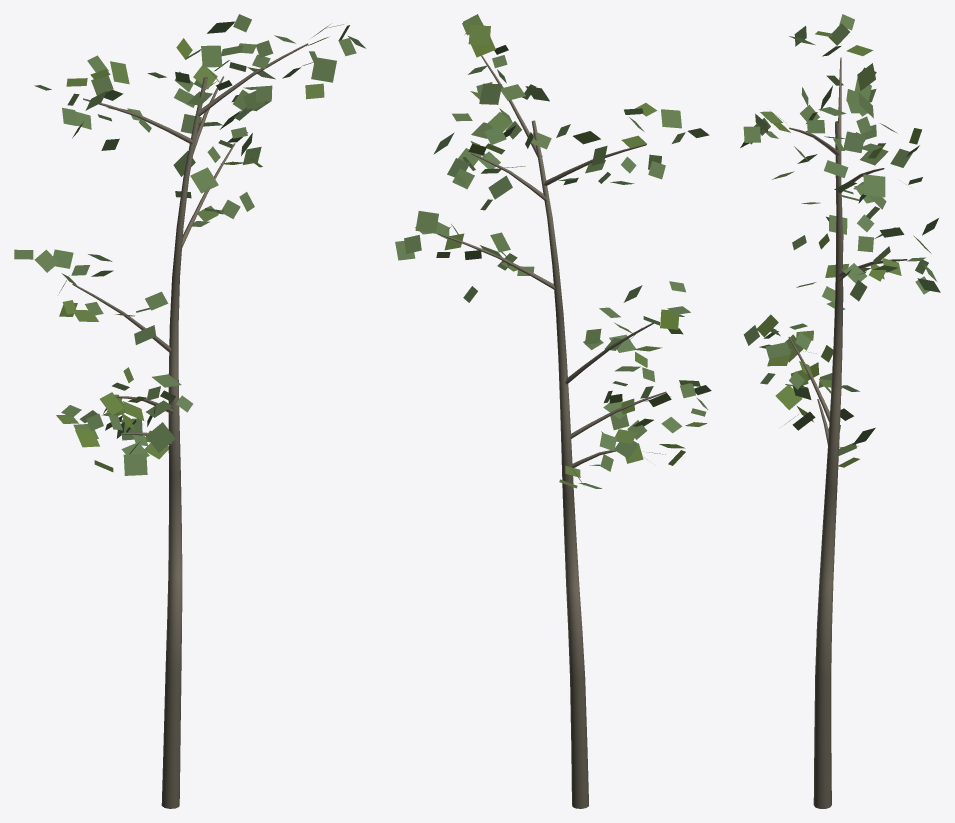
Rendered from sapling_a.glb.
3 renders of one model, left to right at view 1: azimuth 30°, elevation 25°; view 2: azimuth 150°, elevation 25°; view 3: azimuth 270°, elevation 25°, orthographic. The views are drawn at different scales.
Visible parts, largest first — view 1: sapling_a; view 2: sapling_a; view 3: sapling_a.
Boxes of the visible parts, box(x1,y1,x2,y2) form: sapling_a: box(14, 14, 365, 808); sapling_a: box(395, 14, 711, 808); sapling_a: box(740, 14, 940, 808).
Bounding box in the file's own units: 2.5 × 6.27 × 1.5.
